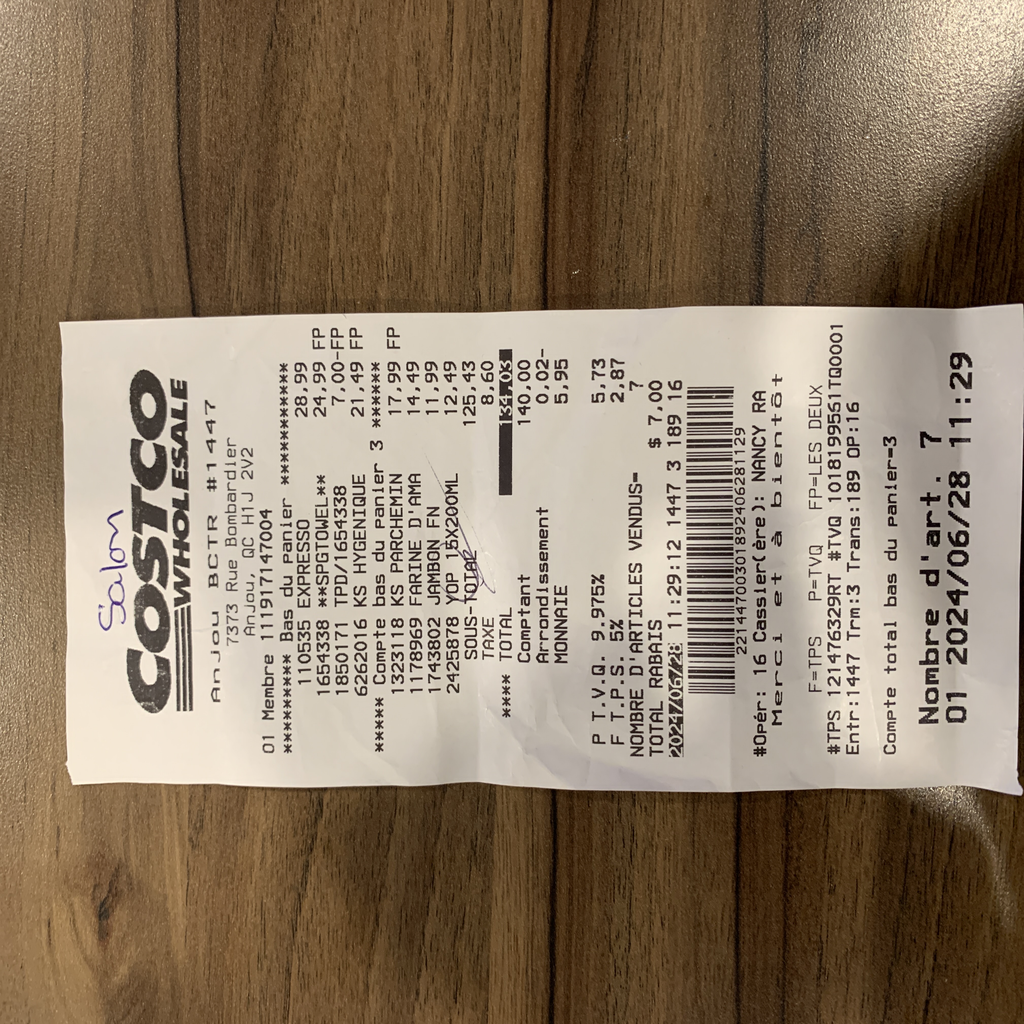recipt: (53, 300, 1022, 791)
